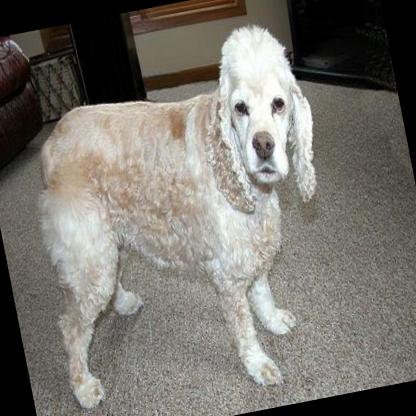cocker_spaniel: (3, 12, 359, 416)
